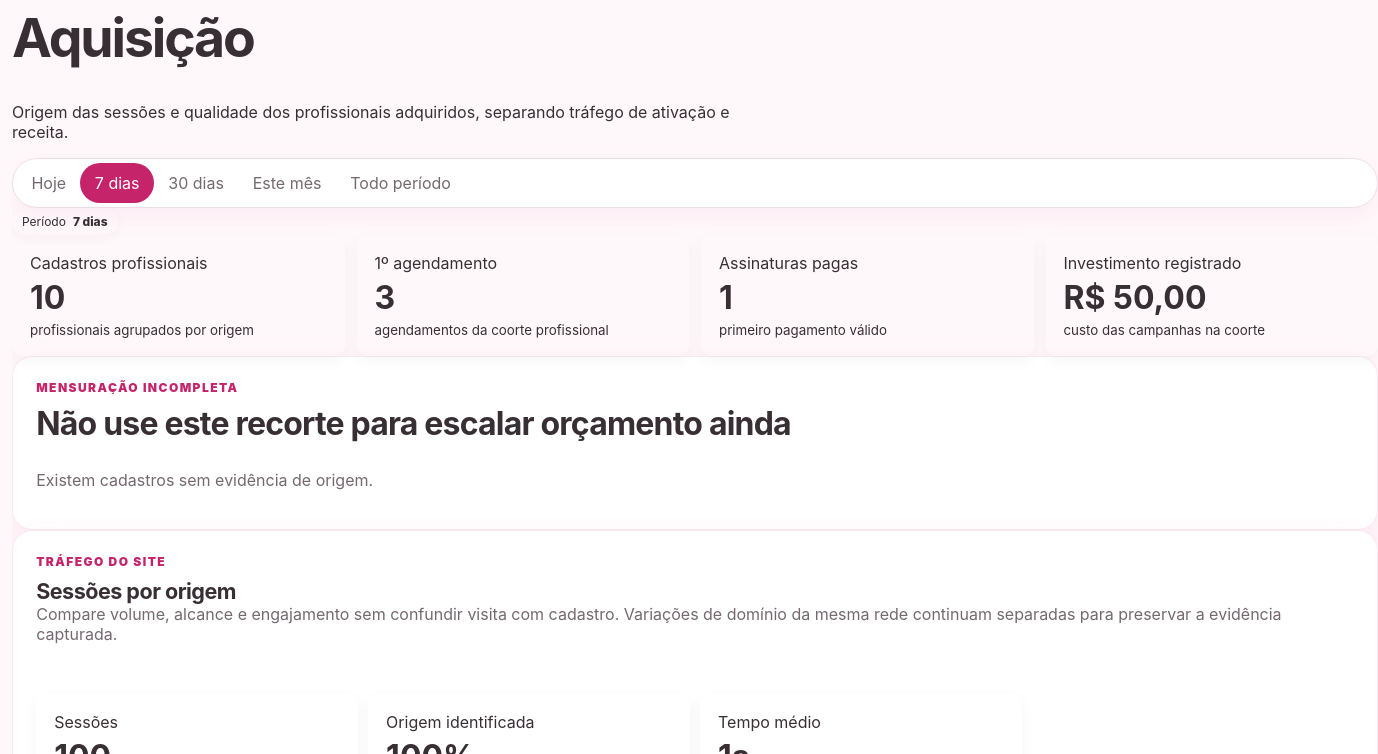
Test: aquisição administrativa v2 › recarrega o período e persiste a seleção na URL
Click the button "30 dias" at (196, 183), box [154,163,238,203]
(page scrolled)
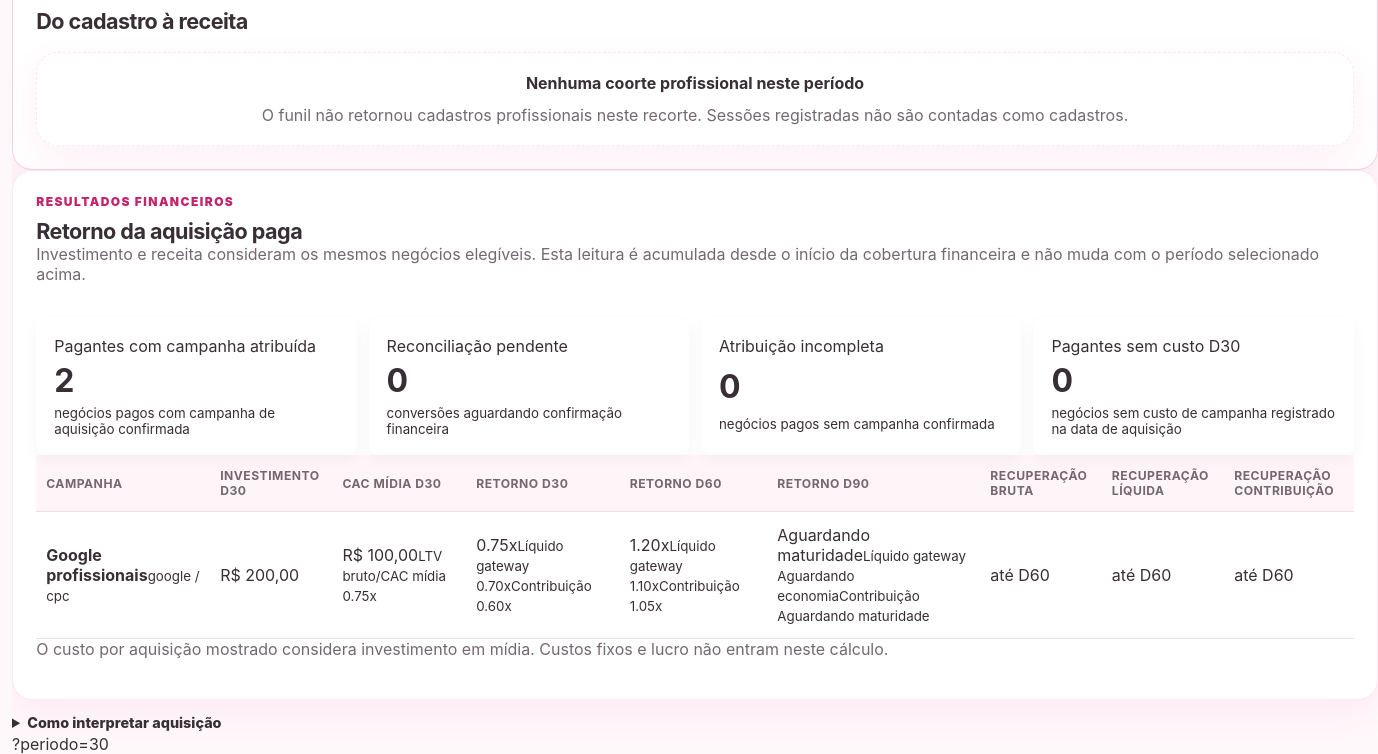
Check: the text "Nenhuma coorte profissional neste período" is shown, box [526,73,864,93]
Check: the text with test id "location" reads "?periodo=30", box [12,734,109,753]
